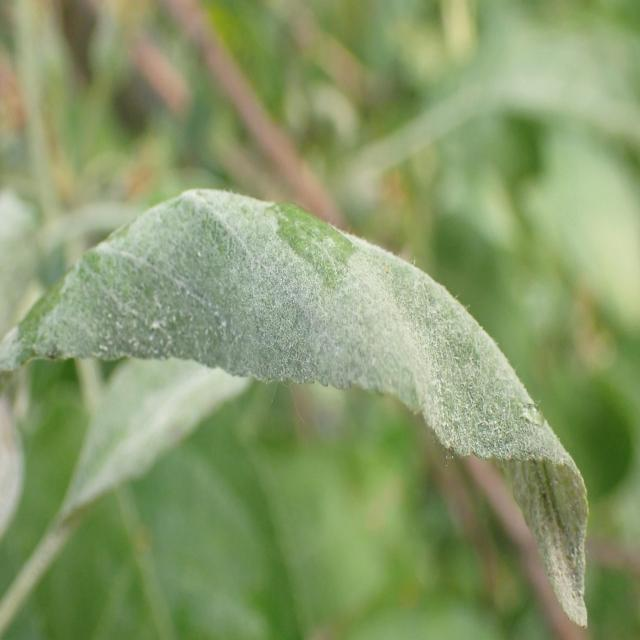Powdery_mildew: (11, 154, 602, 636)
